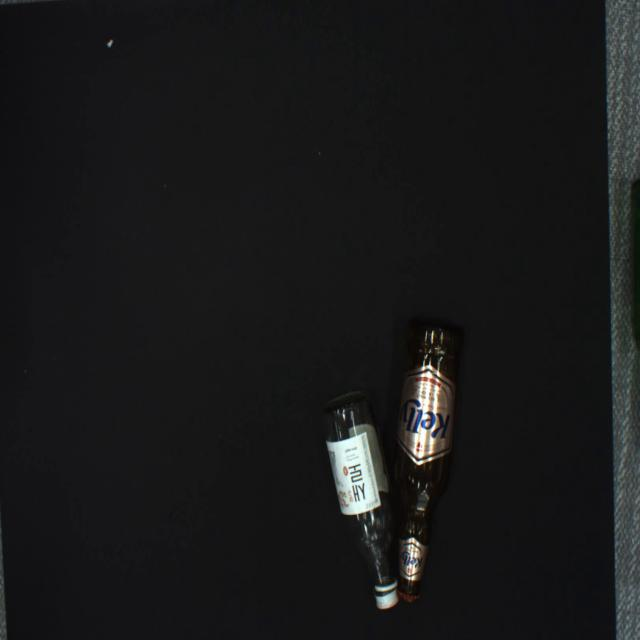beer-bottle: (393, 321, 464, 603)
soju-bottle: (319, 390, 399, 609)
